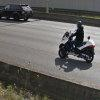Motorcycle: (50, 21, 97, 68)
